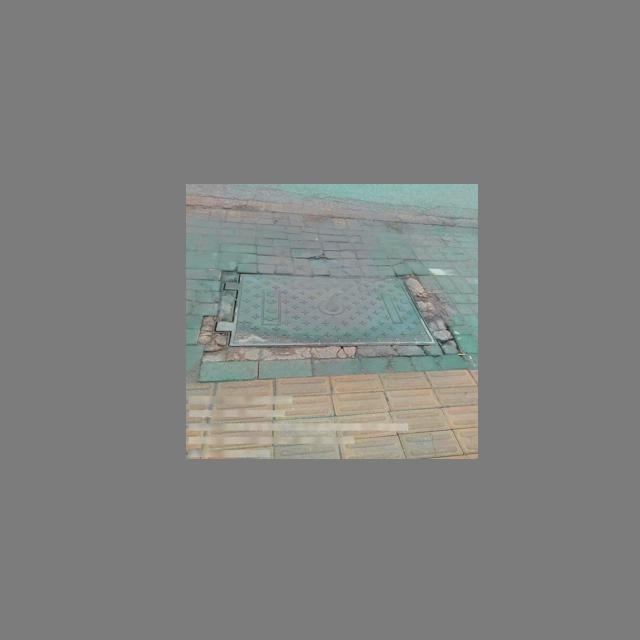good: (212, 273, 438, 345)
